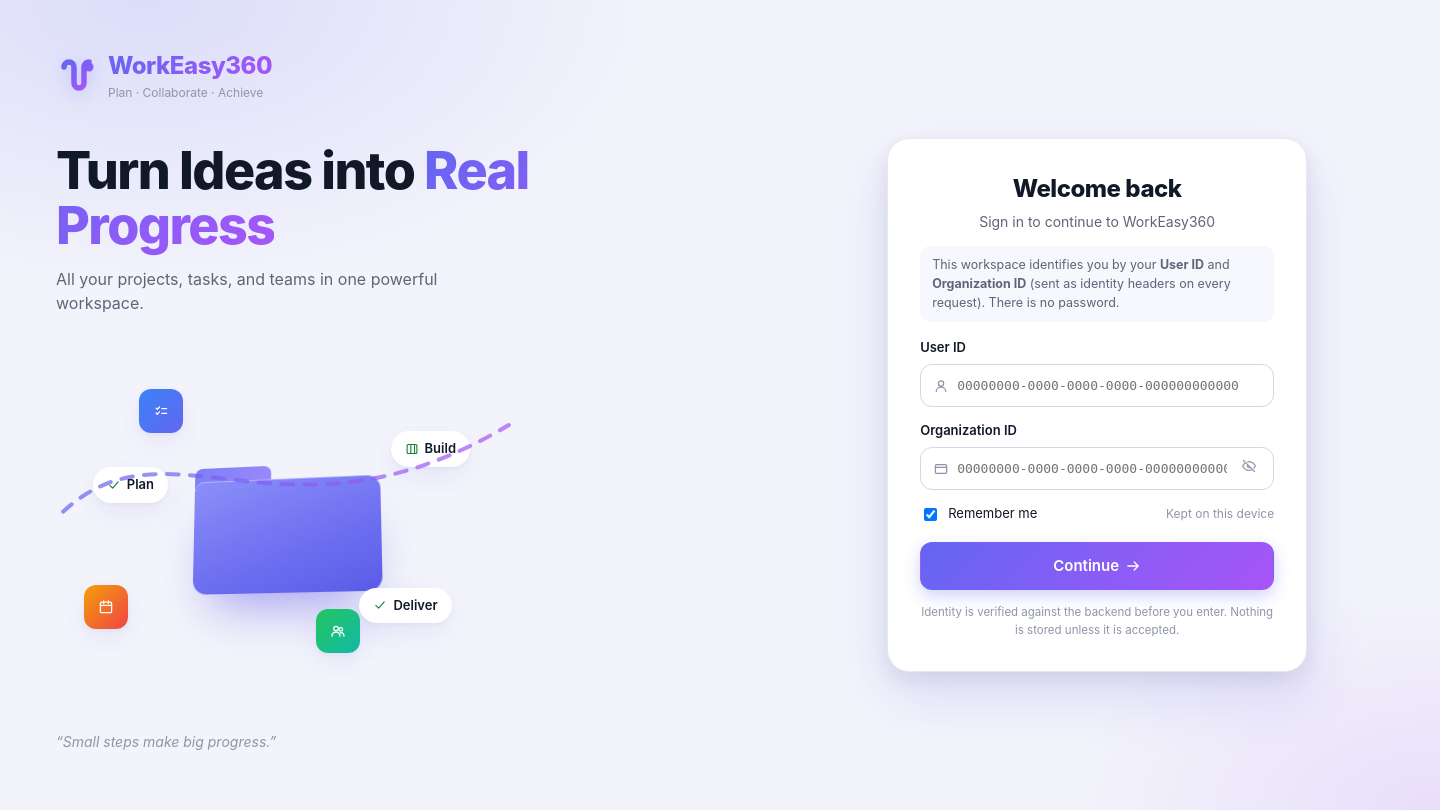
Test: SignInPage › rejects non-UUID identifiers without touching the backend or storing anything
Type "nope" into the field labelled "User ID". click: (1110, 386)
box: x1=957 y1=365 x2=1263 y2=406
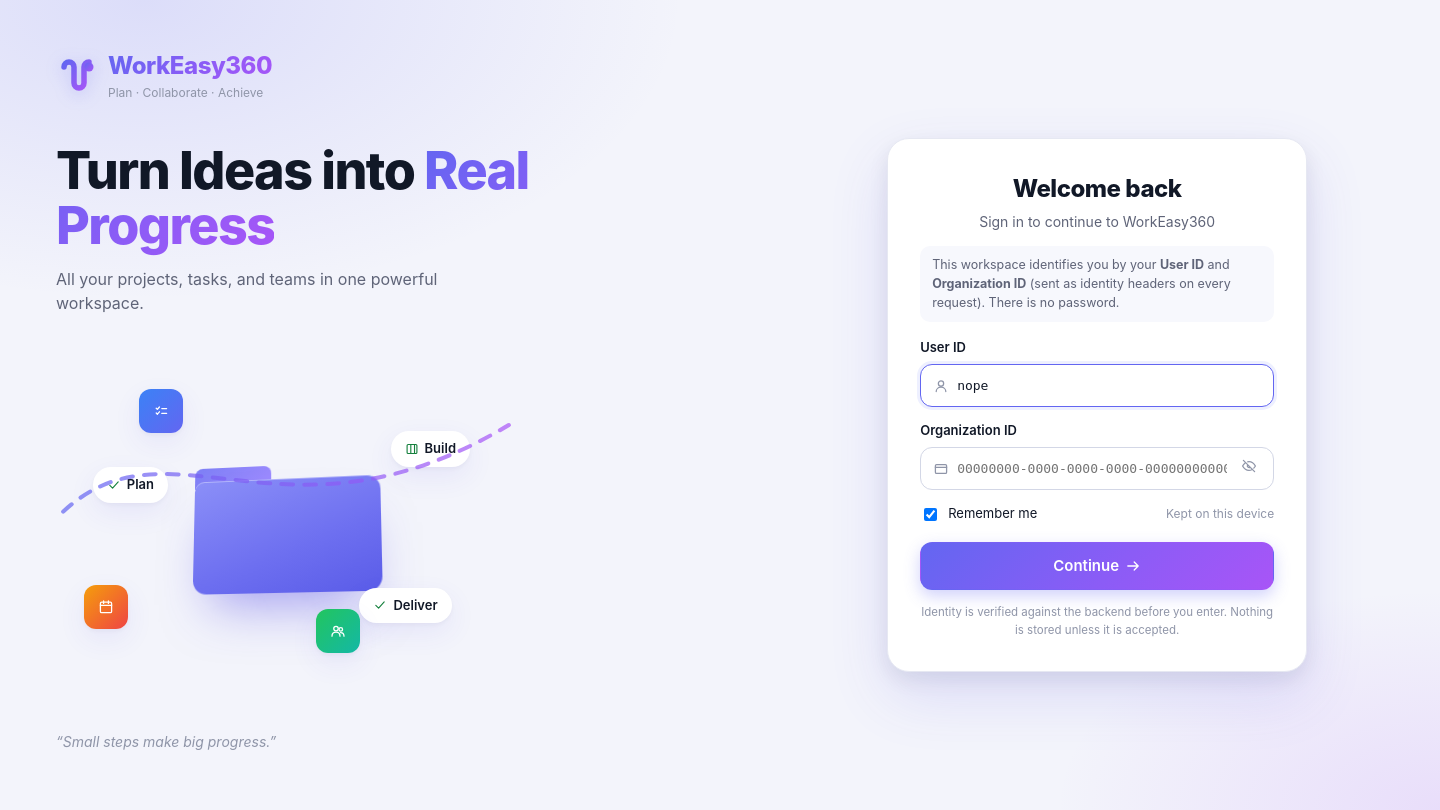
Type "nope" into the field labelled "Organization ID". click: (1092, 469)
box: x1=957 y1=448 x2=1227 y2=489
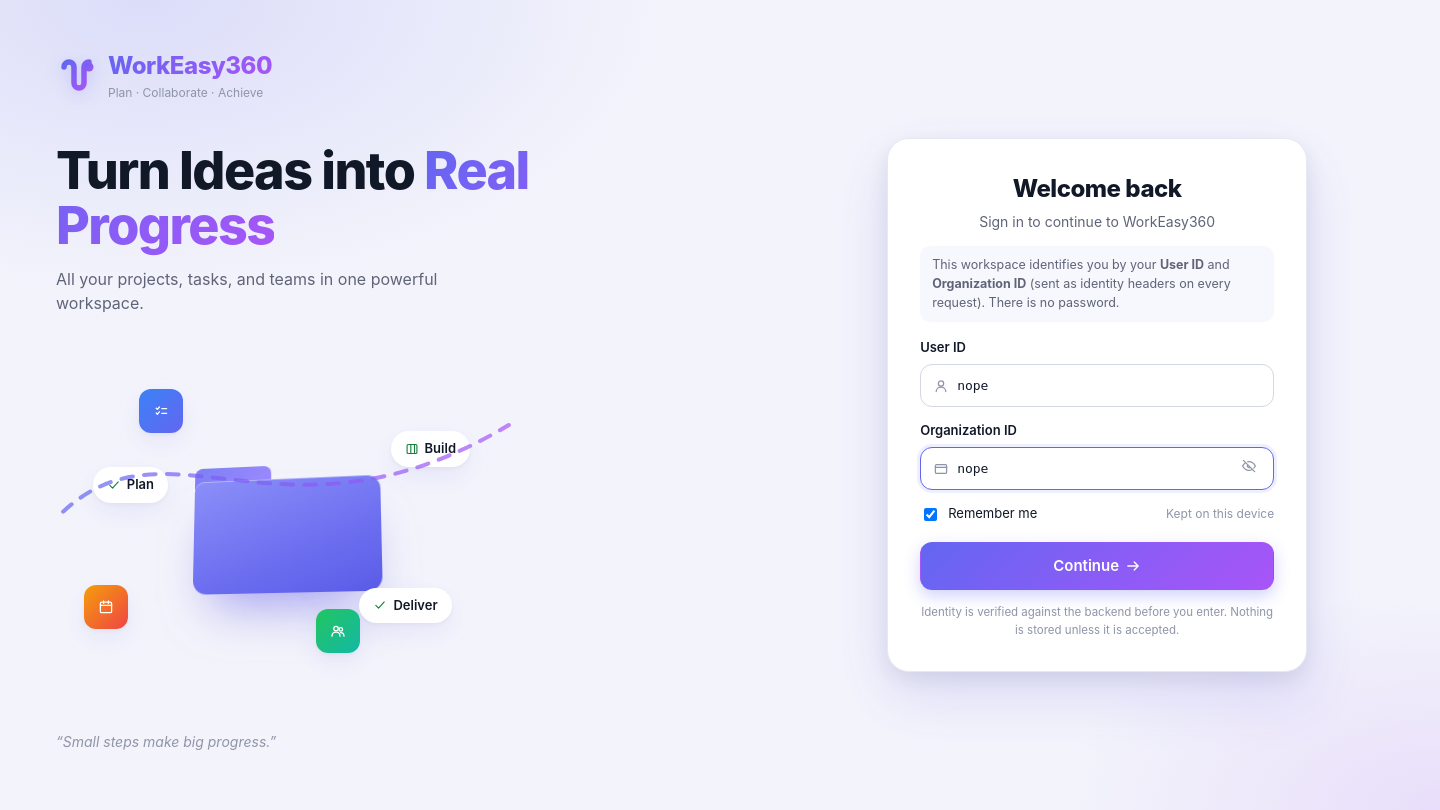
Click the button "Continue". click: (1097, 566)
box: x1=920 y1=542 x2=1274 y2=590
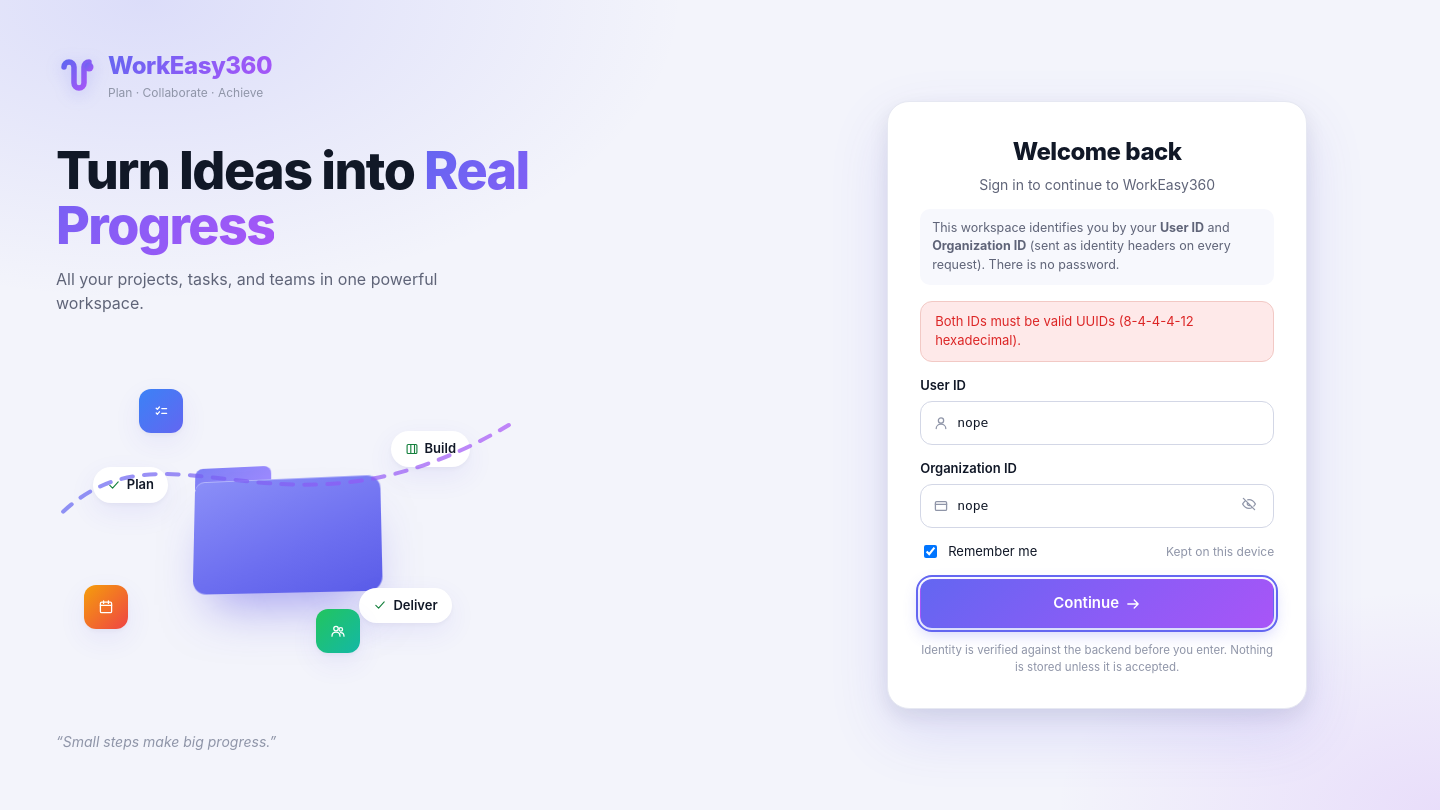
Result: the message shows "valid UUIDs" at x1=935 y1=313 x2=1194 y2=348
